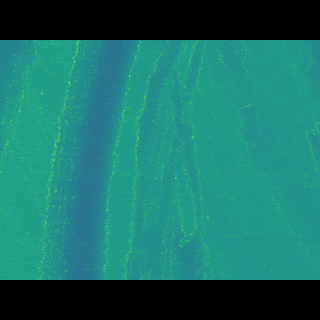Loch: (32, 70, 139, 251), (121, 70, 216, 252), (0, 69, 35, 161)
